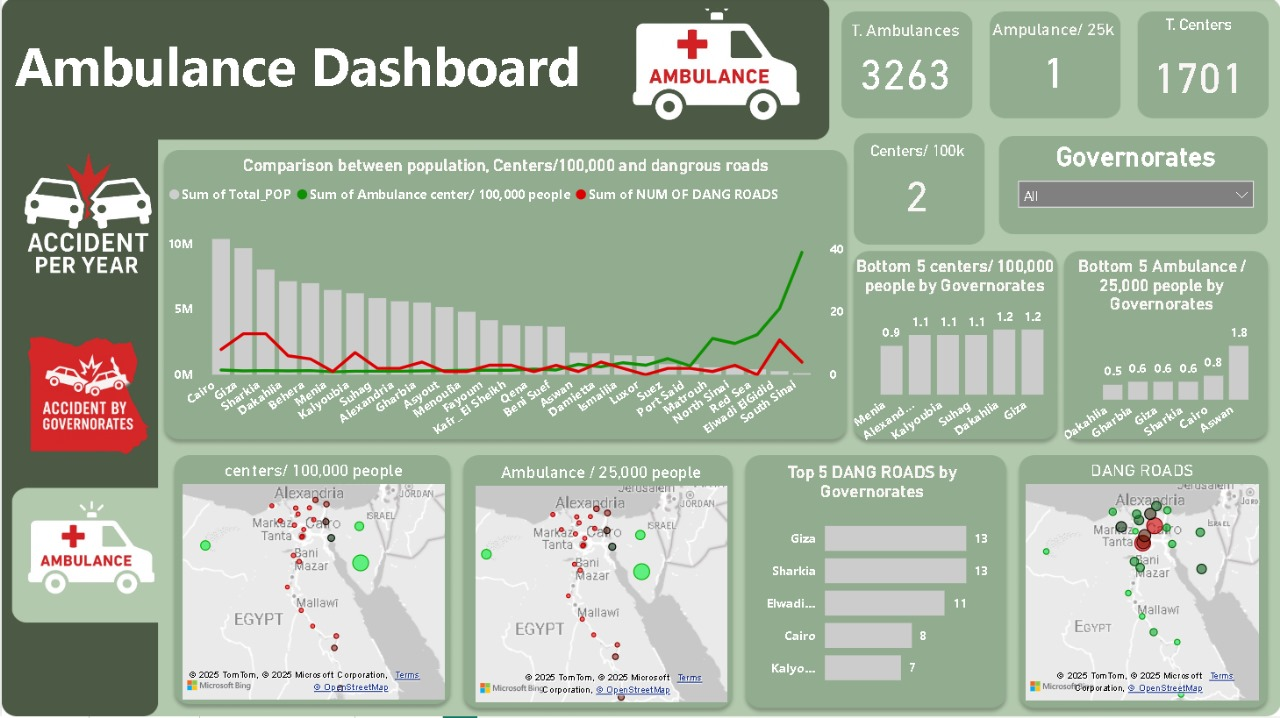

The dashboard page shown, as its layout file describes it:
{"tool":"powerbi","page":{"name":"ambulance","canvas":[1280,720],"ordinal":3},"visuals":[{"type":"textbox","box":[8.2,26.1,708.1,83.7],"z":0},{"type":"image","box":[8.8,122,154.5,193.2],"z":1000},{"type":"image","box":[8.8,306.4,162.4,195.8],"z":2000},{"type":"card","title":"T. Ambulances","fields":{"Values":["Sum(AMPULANCE.Number of Ambulance)"]},"box":[830.2,11,149.6,112.5],"z":3000},{"type":"card","title":"T. Centers","fields":{"Values":["Sum(AMPULANCE.Number of points)"]},"box":[1135.1,10.7,124.5,121.6],"z":4000},{"type":"card","title":"Centers/ 100k ","fields":{"Values":["measure.Points/100,000 people"]},"box":[852,137.1,128.4,106],"z":5000},{"type":"card","title":"Ampulance/ 25k","fields":{"Values":["measure.Ambulance /25,000 people"]},"box":[980.4,10.7,144,110.9],"z":6000},{"type":"slicer","title":"Governorates","fields":{"Values":["AMPULANCE.Governorates"]},"box":[1007.1,132.6,256.4,110.6],"z":7000},{"type":"lineStackedColumnComboChart","title":"Comparison between population, Centers/100,000  and  dangrous roads","fields":{"Category":["AMPULANCE.Governorates"],"Y":["Sum(AMPULANCE.Total_POP)"],"Y2":["Sum(AMPULANCE.Ambulance center/ 100,000 people)","Sum(AMPULANCE.NUM OF DANG ROADS)"]},"box":[161.9,157.8,686.1,299.1],"z":8000},{"type":"image","box":[8.8,457.5,162.4,195.8],"z":9000},{"type":"image","box":[610.2,6.1,209.9,122.9],"z":10000},{"type":"columnChart","title":"Bottom 5 Ambulance / 25,000 people by Governorates","fields":{"Category":["AMPULANCE.Governorates"],"Y":["Sum(AMPULANCE.Ambulance / 25,000 people)"]},"box":[1059.4,259.3,204.5,194.9],"z":11000},{"type":"columnChart","title":"Bottom 5 centers/ 100,000 people by Governorates","fields":{"Category":["AMPULANCE.Governorates"],"Y":["Sum(AMPULANCE.Ambulance center/ 100,000 people)"]},"box":[848,259.3,211.3,194.9],"z":12000},{"type":"map","title":"centers/ 100,000 people","fields":{"Size":["Sum(AMPULANCE.Ambulance center/ 100,000 people)"],"Category":["AMPULANCE.Governorates"]},"box":[176,463.8,273,245],"z":13000},{"type":"map","title":"Ambulance / 25,000 people","fields":{"Category":["AMPULANCE.Governorates"],"Size":["Sum(AMPULANCE.Ambulance / 25,000 people)"]},"box":[469.3,465.2,262.1,245.6],"z":14000},{"type":"clusteredBarChart","title":"Top 5 DANG ROADS by Governorates","fields":{"Category":["AMPULANCE.Governorates"],"Y":["Sum(AMPULANCE.NUM OF DANG ROADS)"]},"box":[750.6,465.2,241.5,237.4],"z":15000},{"type":"map","title":" DANG ROADS","fields":{"Category":["AMPULANCE.Governorates"],"Size":["Sum(AMPULANCE.NUM OF DANG ROADS)"]},"box":[1019.6,463.8,244.3,245.6],"z":16000}]}

Visuals, with their boxes in screenshot pixels (x1, y1, x2, y2), scaled from the page's 1280x720 canvas onto the 1280x718 screenshot:
textbox: select_region(8, 26, 716, 109)
image: select_region(9, 122, 163, 314)
image: select_region(9, 306, 171, 501)
"T. Ambulances" card: select_region(830, 11, 980, 123)
"T. Centers" card: select_region(1135, 11, 1260, 132)
"Centers/ 100k " card: select_region(852, 137, 980, 242)
"Ampulance/ 25k" card: select_region(980, 11, 1124, 121)
"Governorates" slicer: select_region(1007, 132, 1264, 243)
"Comparison between population, Centers/100,000  and  dangrous roads" lineStackedColumnComboChart: select_region(162, 157, 848, 456)
image: select_region(9, 456, 171, 651)
image: select_region(610, 6, 820, 129)
"Bottom 5 Ambulance / 25,000 people by Governorates" columnChart: select_region(1059, 259, 1264, 453)
"Bottom 5 centers/ 100,000 people by Governorates" columnChart: select_region(848, 259, 1059, 453)
"centers/ 100,000 people" map: select_region(176, 463, 449, 707)
"Ambulance / 25,000 people" map: select_region(469, 464, 731, 709)
"Top 5 DANG ROADS by Governorates" clusteredBarChart: select_region(751, 464, 992, 701)
" DANG ROADS" map: select_region(1020, 463, 1264, 707)
